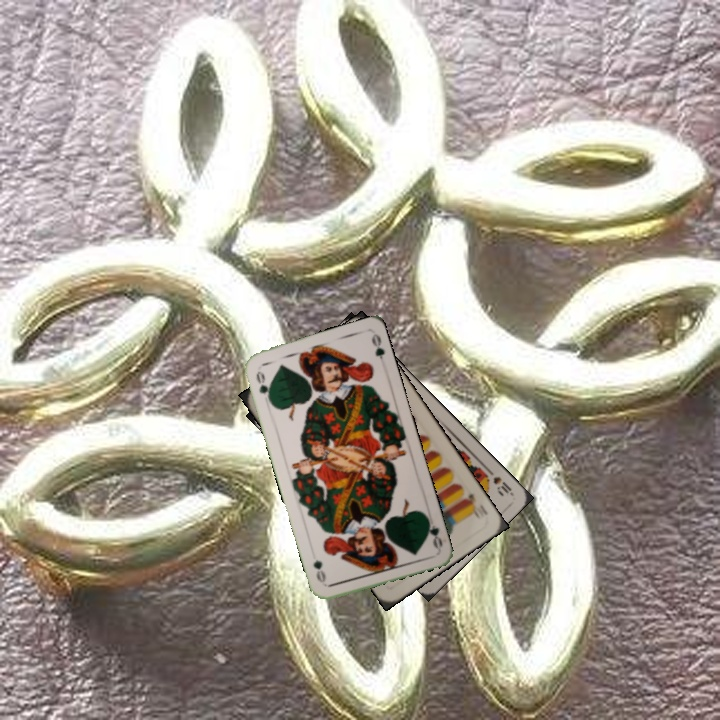E10: (461, 489, 490, 521)
GO: (421, 512, 445, 551), (252, 367, 274, 405)
S10: (482, 464, 515, 498)
